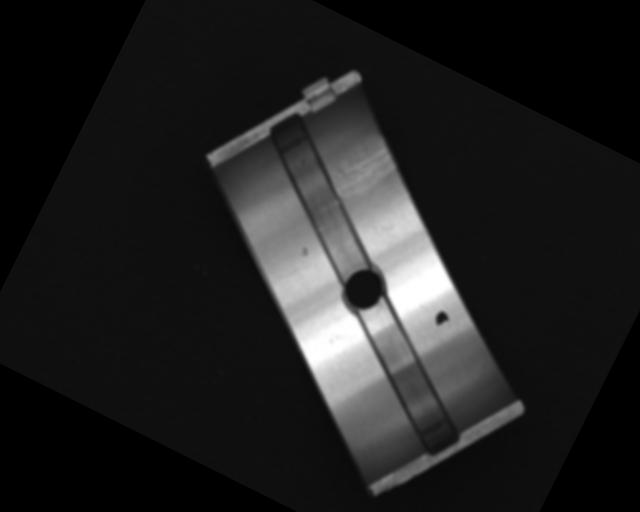blot: (431, 307, 452, 329)
bruise: (298, 245, 311, 258)
gap: (227, 106, 415, 284), (317, 293, 499, 462)
hole: (335, 261, 391, 319)
scratch: (321, 123, 405, 218)
